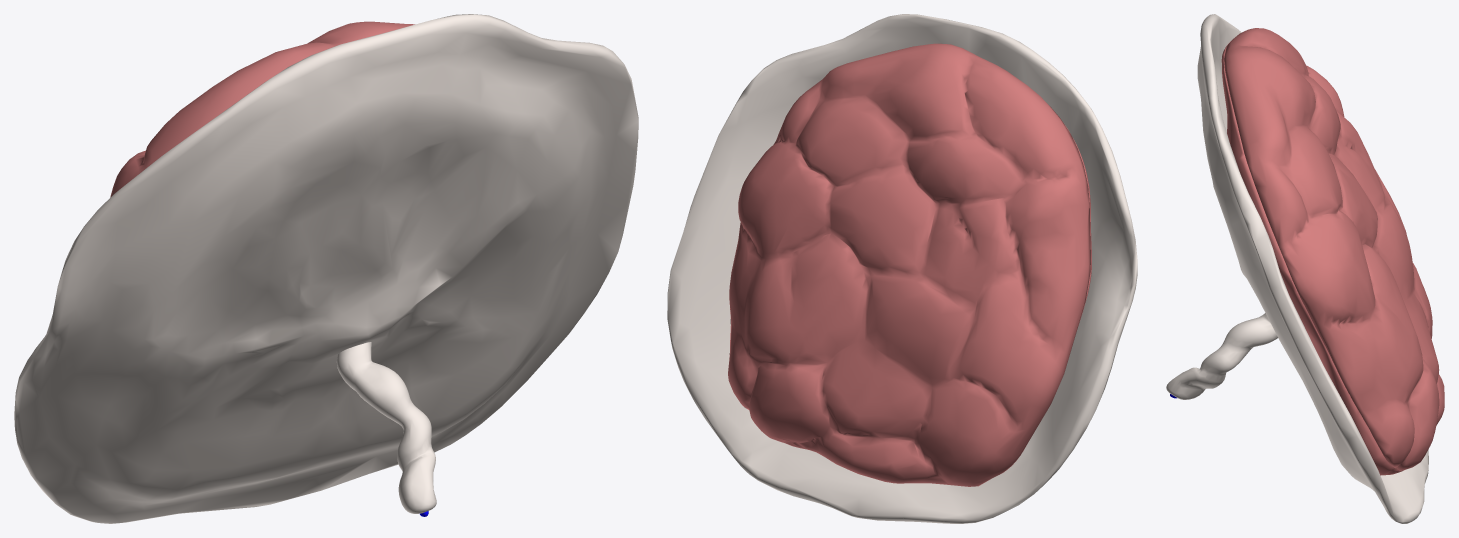
File: vh_f_placenta-20.glb
3 views of the same model, side by side, from view 1: azimuth 30°, elevation 25°; view 2: azimuth 150°, elevation 25°; view 3: azimuth 270°, elevation 25° (orthographic). The views are drawn at different scales.
Visible parts, largest first — view 1: VH_F_amnion, VH_F_basal_plate, VH_F_umbilical_cord; view 2: VH_F_basal_plate, VH_F_amnion; view 3: VH_F_basal_plate, VH_F_amnion, VH_F_chorionic_plate, VH_F_umbilical_cord.
Boxes of the visible parts, bbox=[...] form: VH_F_amnion: bbox=[14, 14, 638, 523]; VH_F_basal_plate: bbox=[110, 21, 414, 197]; VH_F_umbilical_cord: bbox=[336, 342, 436, 513]; VH_F_basal_plate: bbox=[728, 43, 1090, 486]; VH_F_amnion: bbox=[667, 14, 1137, 523]; VH_F_basal_plate: bbox=[1224, 28, 1444, 471]; VH_F_amnion: bbox=[1197, 14, 1428, 523]; VH_F_chorionic_plate: bbox=[1221, 41, 1403, 475]; VH_F_umbilical_cord: bbox=[1166, 313, 1277, 399].
Bounding box in the file's own units: 0.251 × 0.2307 × 0.1338.
